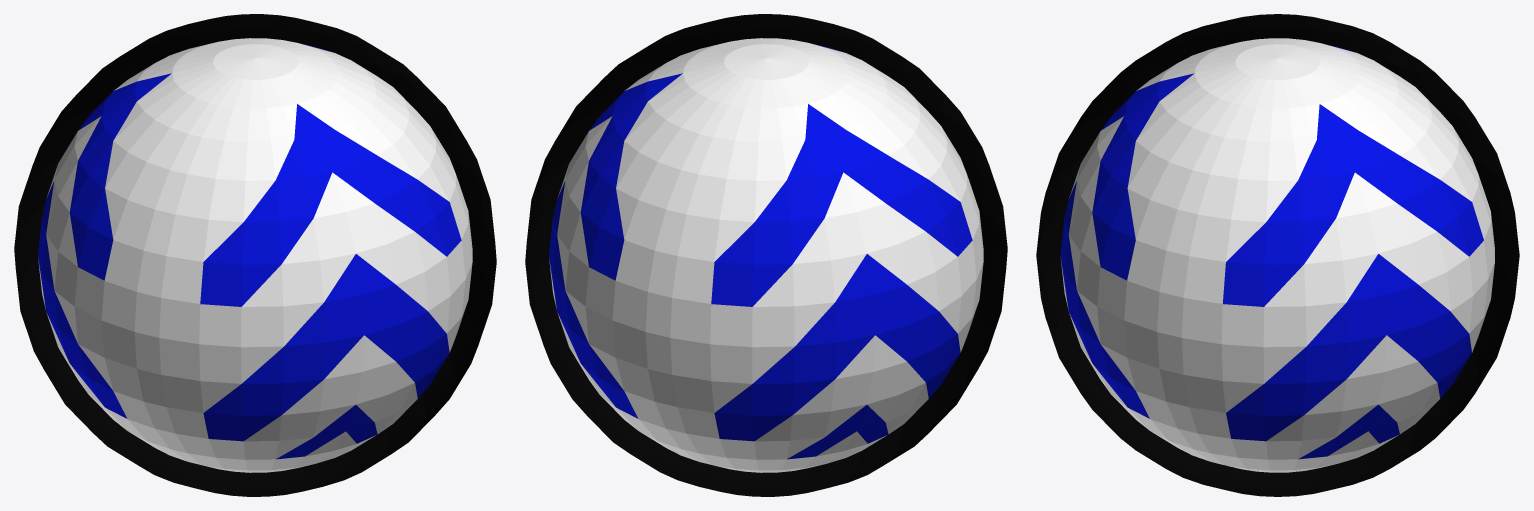
The model's file is GiantPWR.fbx.
The picture shows the model from 3 angles, left to right: view 1: azimuth 30°, elevation 25°; view 2: azimuth 150°, elevation 25°; view 3: azimuth 270°, elevation 25°; orthographic projection.
Parts seen in each view (by area): view 1: GiantPWR; view 2: GiantPWR; view 3: GiantPWR.
Boxes of the visible parts, box(x1,y1,x2,y2) form: GiantPWR: box(14, 14, 496, 496); GiantPWR: box(525, 14, 1007, 496); GiantPWR: box(1036, 14, 1519, 496).
Size of the model in its own units: 200 by 200 by 200.
